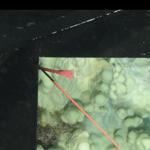alive: (42, 63, 149, 149)
